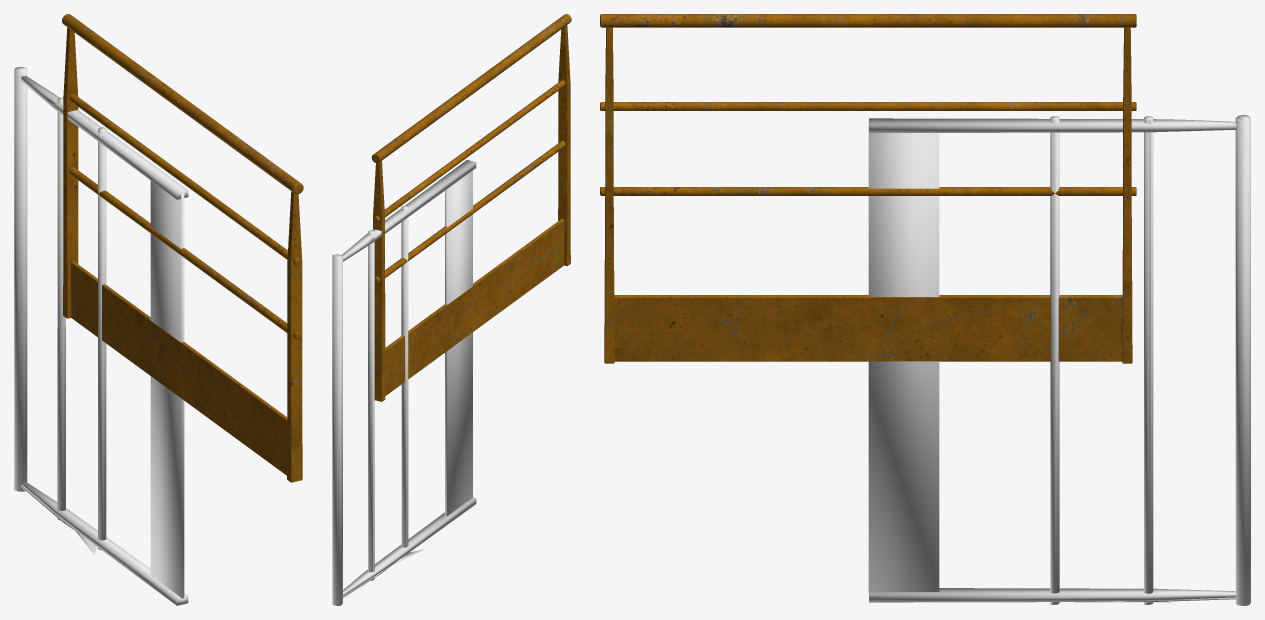
The model's file is SM_Barrier_Balcony.fbx.
The picture shows the model from 3 angles, left to right: view 1: azimuth 30°, elevation 25°; view 2: azimuth 150°, elevation 25°; view 3: azimuth 270°, elevation 25°; orthographic projection. The views are drawn at different scales.
Visible parts, largest first — view 1: SM_Barrier_Balcony_ConvexHulls, SM_Barrier_Balcony; view 2: SM_Barrier_Balcony_ConvexHulls, SM_Barrier_Balcony; view 3: SM_Barrier_Balcony, SM_Barrier_Balcony_ConvexHulls.
Boxes of the visible parts, x1,y1,x2,y2 form: SM_Barrier_Balcony_ConvexHulls: (14,67,188,605); SM_Barrier_Balcony: (62,14,303,482); SM_Barrier_Balcony_ConvexHulls: (332,160,476,605); SM_Barrier_Balcony: (371,14,571,401); SM_Barrier_Balcony: (600,14,1136,363); SM_Barrier_Balcony_ConvexHulls: (868,115,1250,605).
Bounding box in the file's own units: 0.0845 × 1.82 × 1.82.
